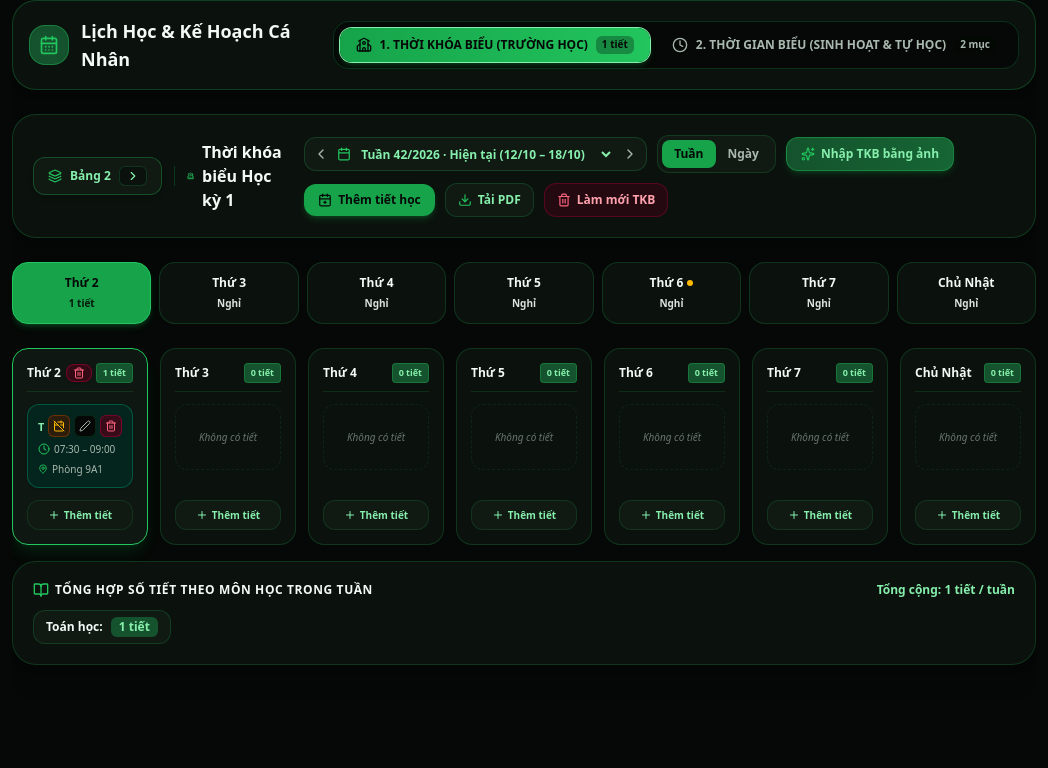
Test case: TimetablePage React UI Component Tests › switches between Week and Day views and renders day-filtered content
The image size is (1048, 768).
Expected: the text "Thời khóa biểu Học kỳ 1" is shown, [202,140,288,212]
Switch to Day view
Click the button "Ngày". click: (743, 154)
box: [716,140,771,168]
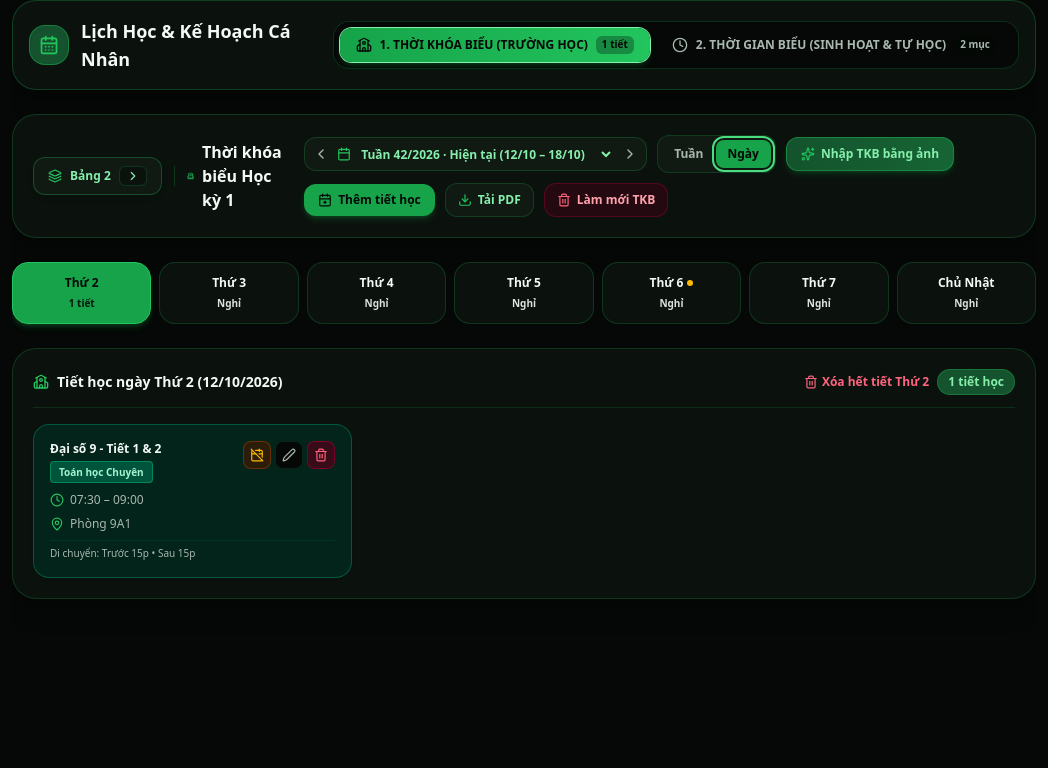
Now the heading "Tiết học ngày Thứ 2 (12/10/2026)" is shown, box [57,372,283,392]
